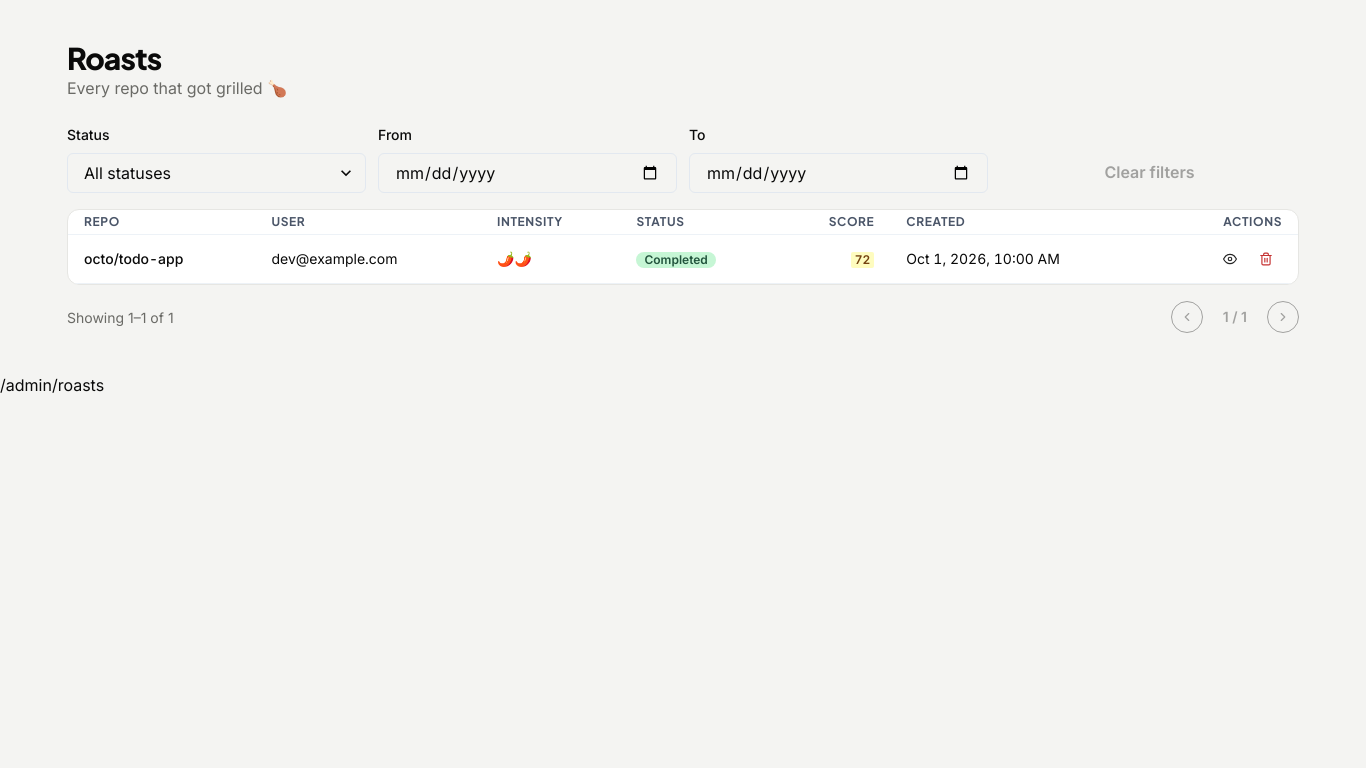
Scenario: AdminRoastsPage › opens the details drawer for a non-public roast
Step 1. Click the button named "View roast of octo/todo-app" → point(1230, 259), box [1214,243,1246,275]
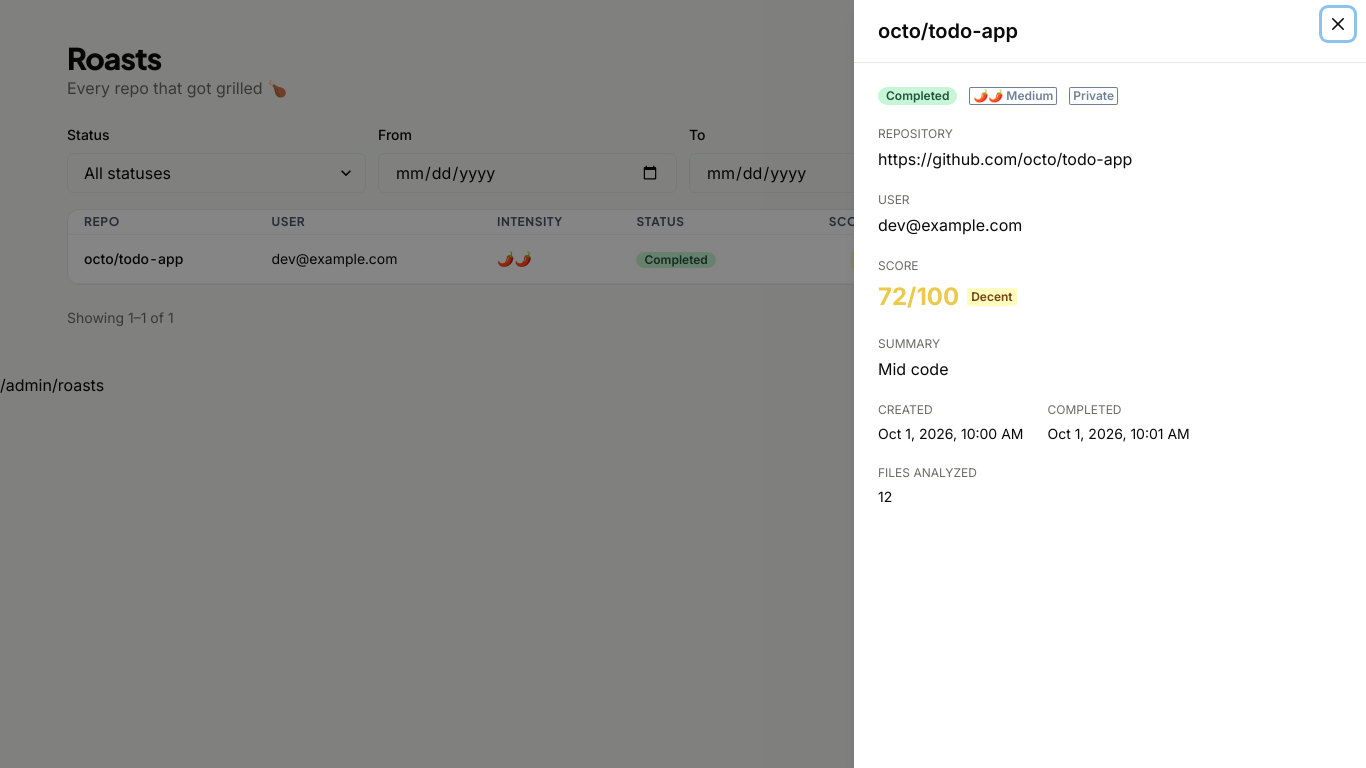
Expected: the text "Mid code" is shown, [878,359,948,379]
Expected: the text "Decent" is shown, [967,288,1016,306]
